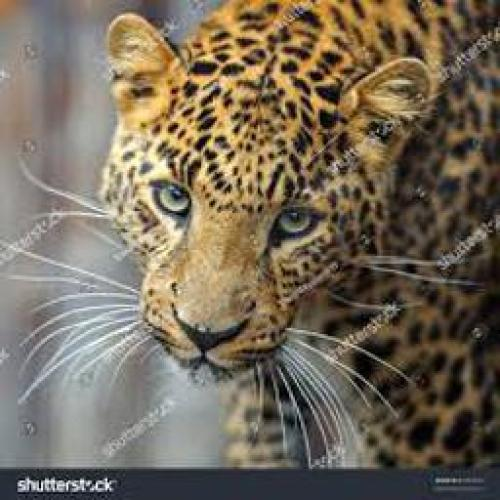amur_leopard-endangered: (101, 8, 500, 404)
